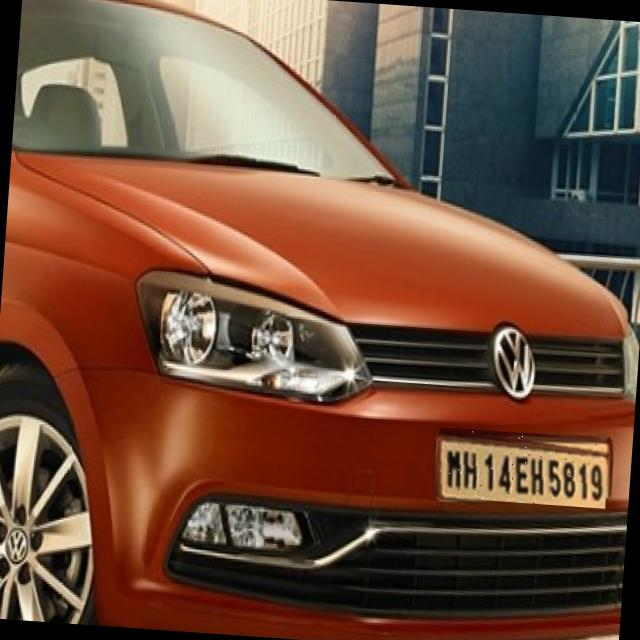Plate: (435, 428, 610, 510)
